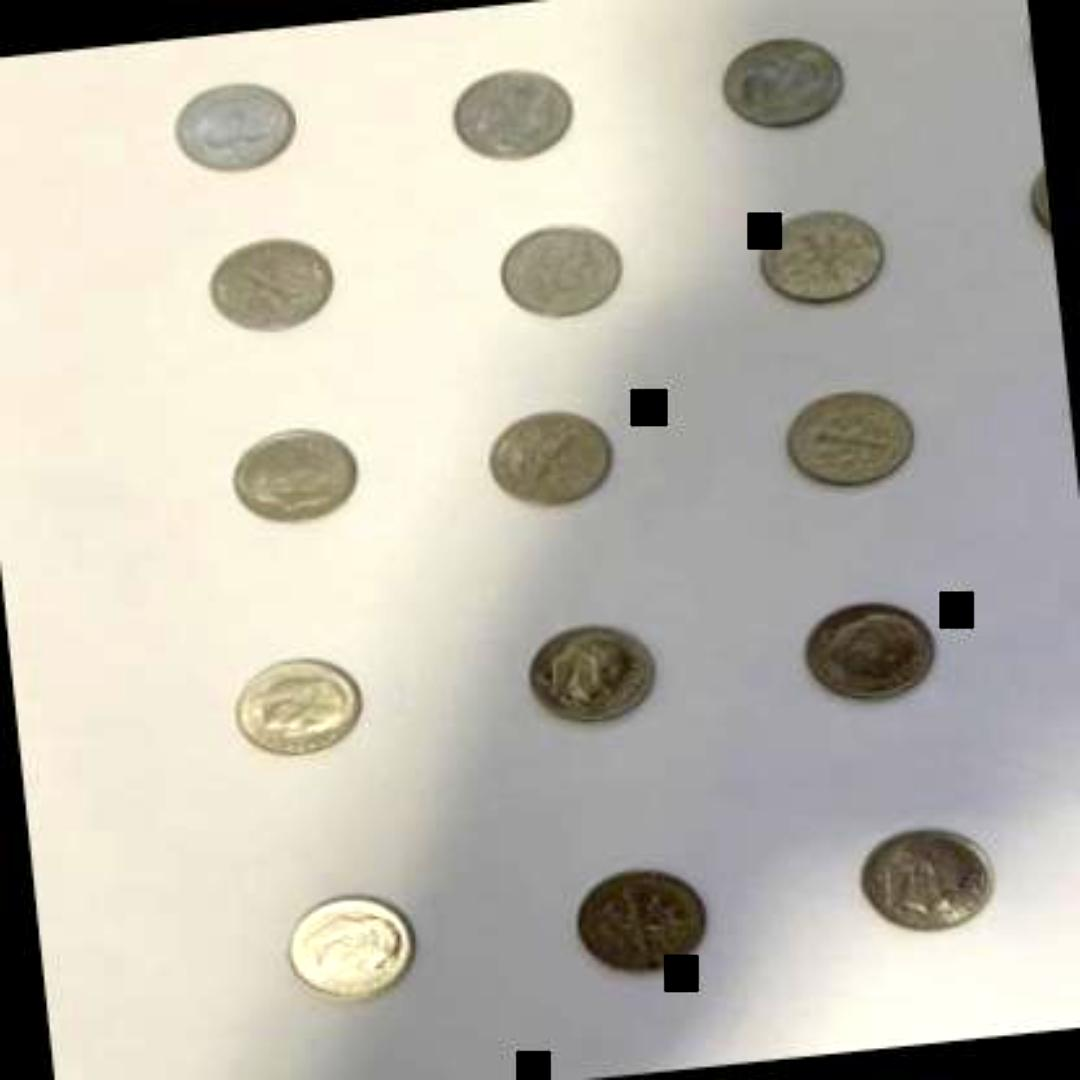Dime: (560, 860, 718, 984), (275, 882, 425, 1006), (516, 612, 669, 730), (852, 818, 1002, 938), (752, 202, 902, 314), (780, 382, 924, 498), (225, 646, 365, 762), (796, 594, 936, 710), (222, 421, 368, 532), (710, 24, 856, 135), (476, 402, 620, 512), (438, 56, 578, 168), (491, 218, 631, 328), (199, 233, 341, 339), (166, 70, 302, 180)
